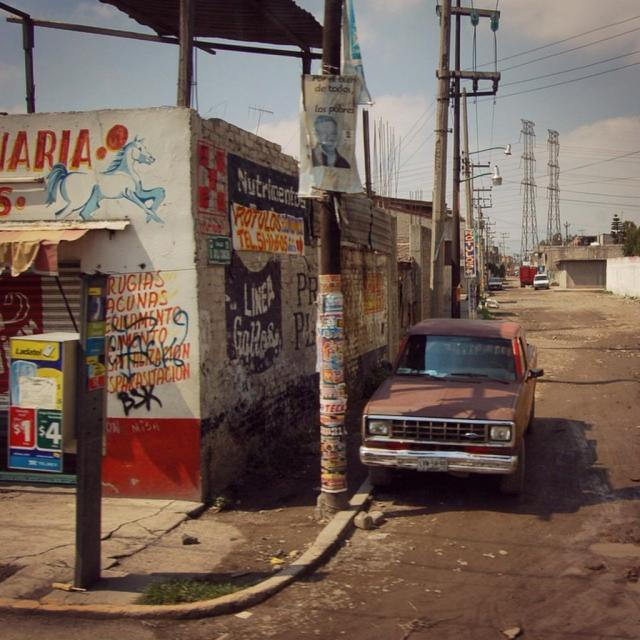car: (357, 317, 541, 496)
